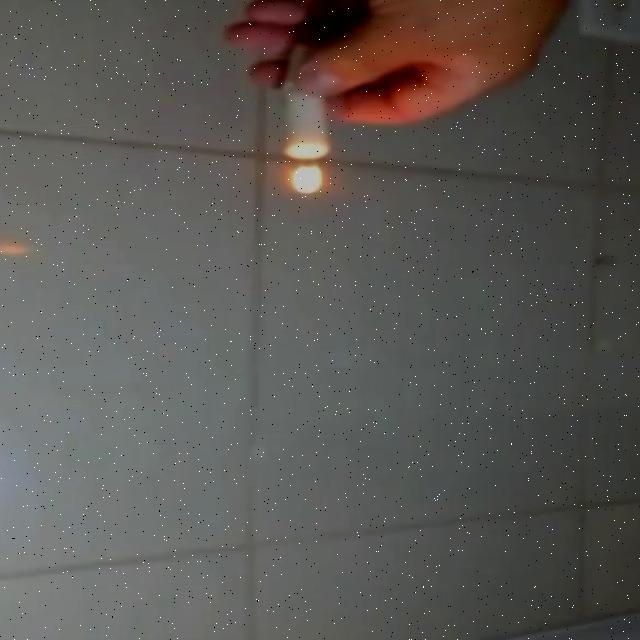fire: (283, 161, 329, 195)
